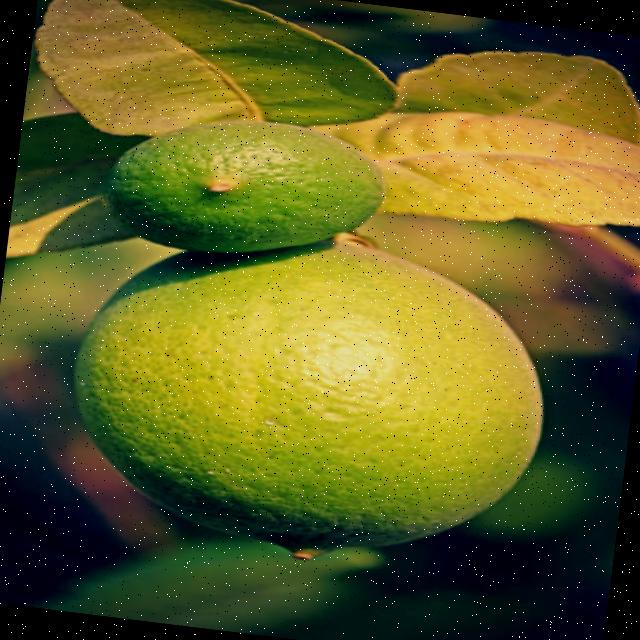Unripe: (60, 208, 560, 575), (101, 102, 394, 273)
